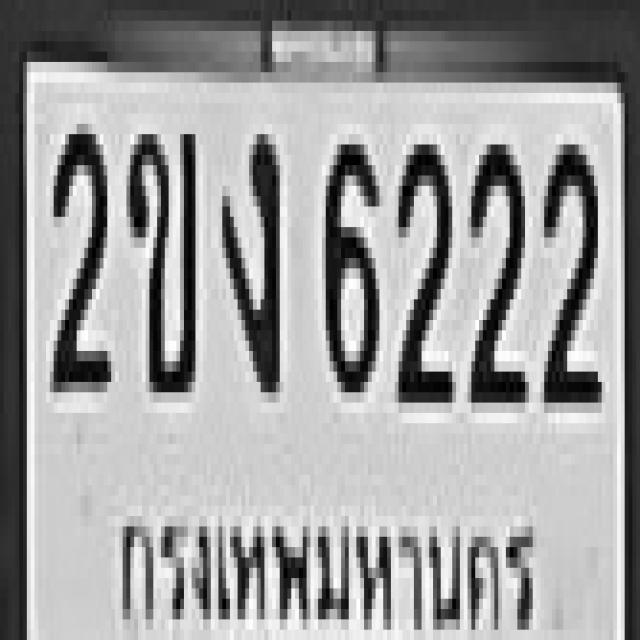11KhorKhai: (122, 124, 192, 382)
16NgorNgu: (218, 124, 276, 382)
2: (540, 134, 598, 403), (50, 113, 107, 382), (468, 134, 521, 392), (395, 134, 448, 392)
6: (322, 134, 375, 382)
Bangkok: (106, 489, 547, 640)
